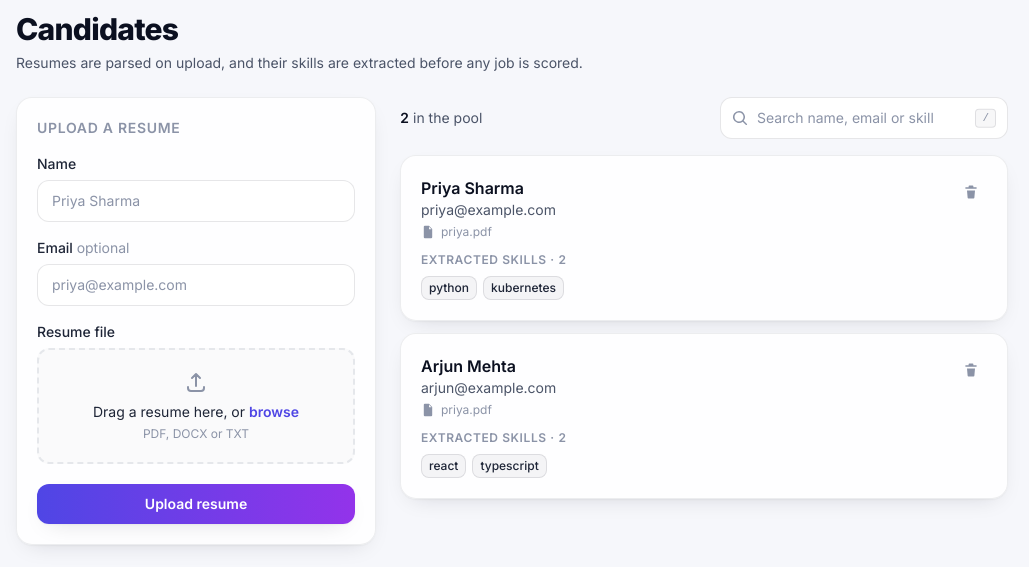
it: CandidatesPage › searching › counts the matches alongside the pool size
The image size is (1029, 567).
Expected: the text "Priya Sharma" is shown, [421,178,524,198]
Type "priya" into the field named "Search candidates" at (864, 118), box [720,97,1008,139]
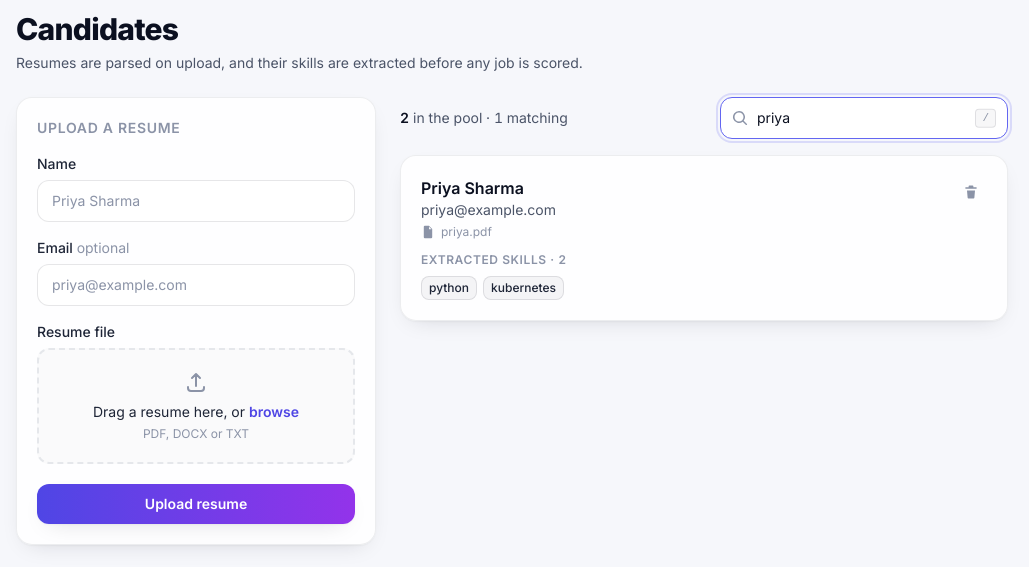
Now the text "· 1 matching" is shown, box [482,109,568,126]
